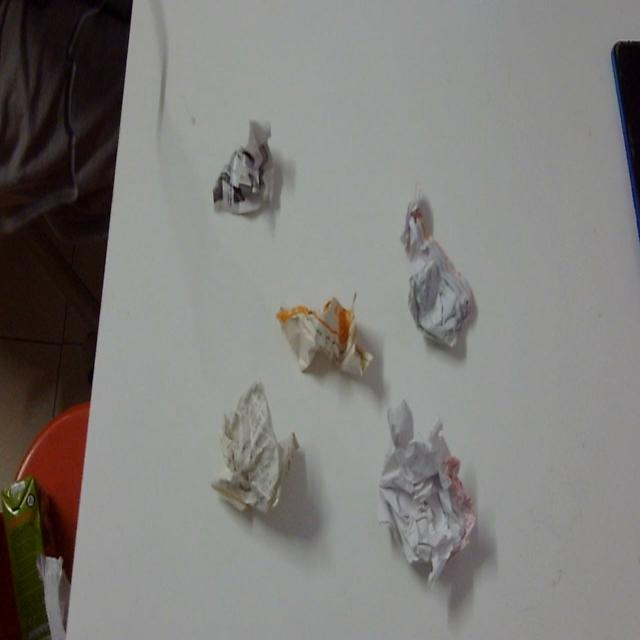paperrotation: (376, 397, 482, 582), (210, 378, 306, 536), (389, 191, 478, 358), (273, 286, 375, 389), (211, 113, 284, 230)
